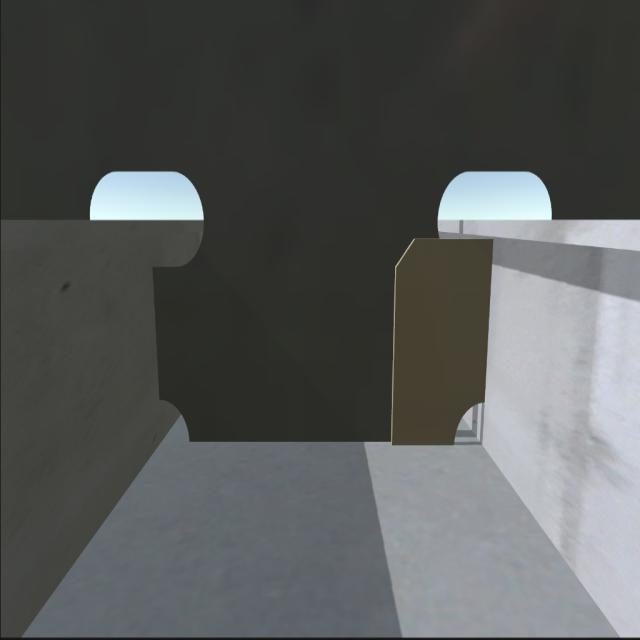fillet_hole: (157, 393, 194, 444), (450, 399, 485, 447)
fillet_yong_jeop_jang: (194, 434, 456, 452)
longi_yong_jeop_jang: (476, 231, 496, 415), (147, 261, 171, 400)
plate_CP03: (387, 236, 492, 444)
